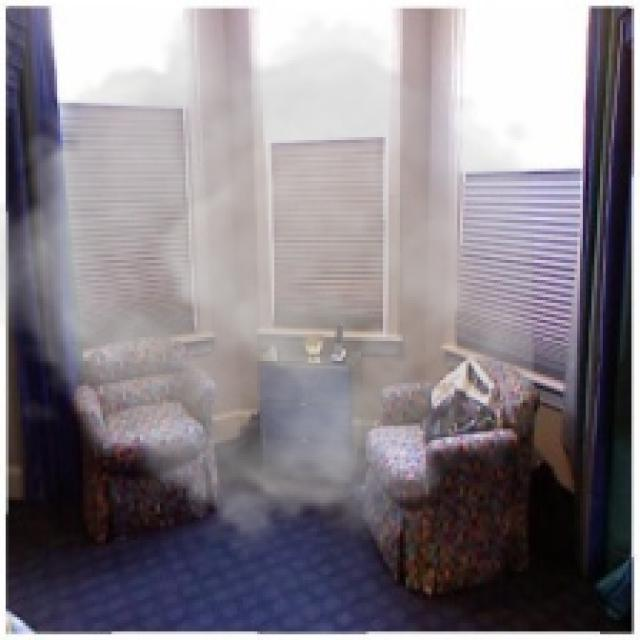Smoke: (0, 5, 535, 561)
